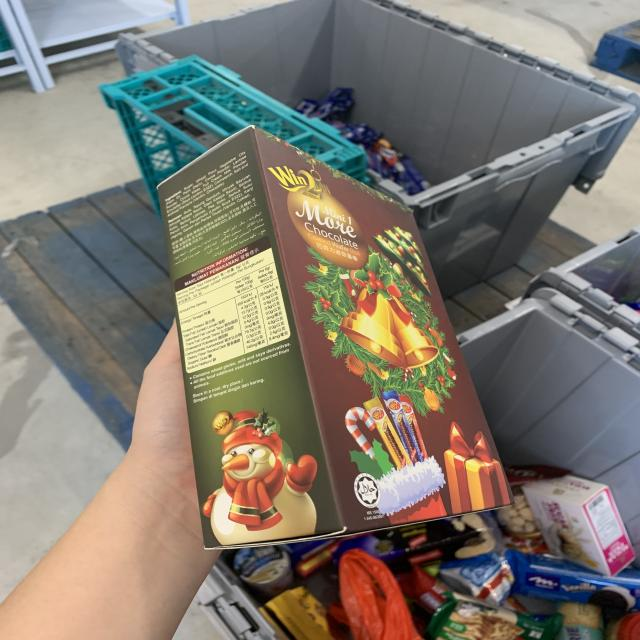object_name: (167, 170, 472, 519)
